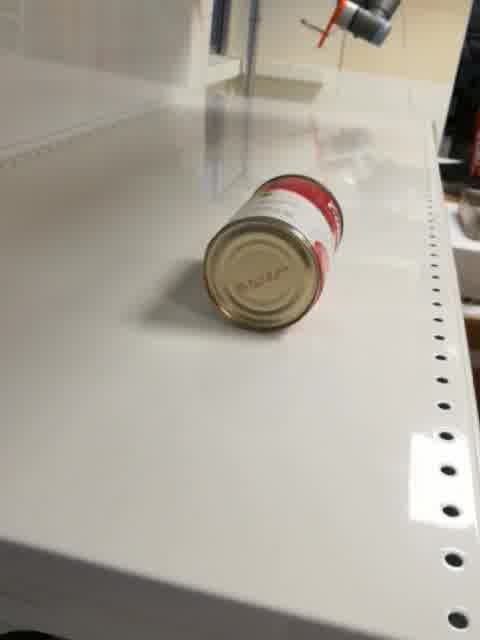tomatosoup: (202, 172, 345, 333)
